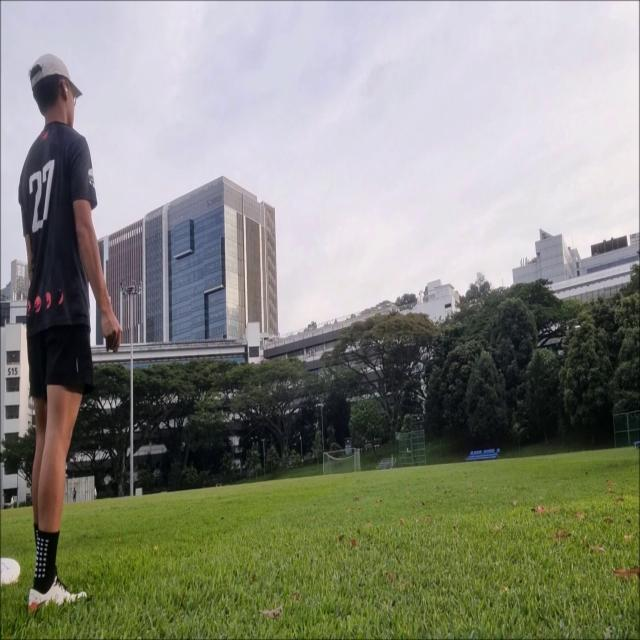disc: (574, 325, 581, 328)
